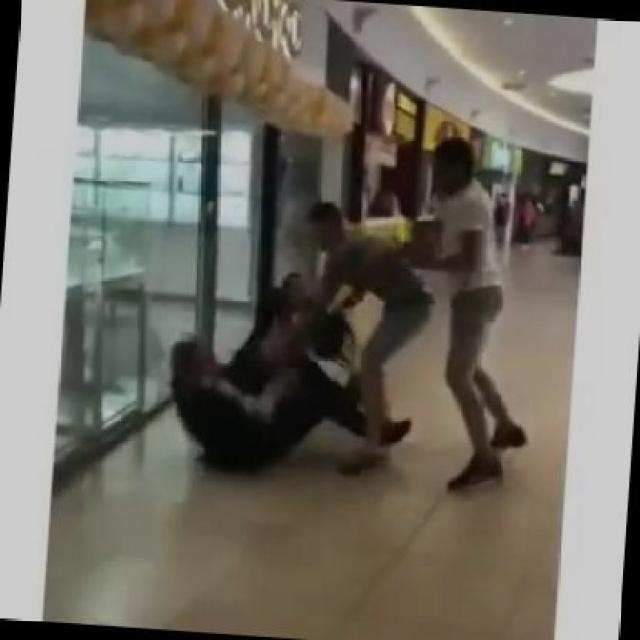fight: (164, 134, 541, 498)
